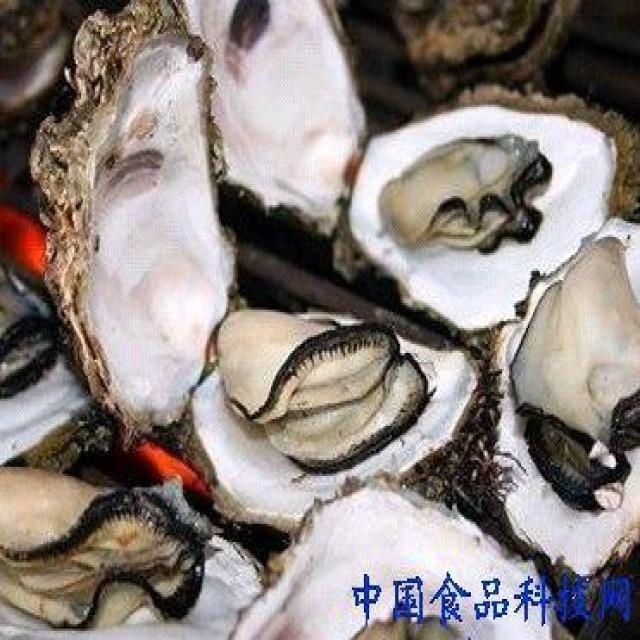Oyster-Open: (159, 278, 490, 574), (224, 469, 590, 640), (0, 454, 267, 640)
